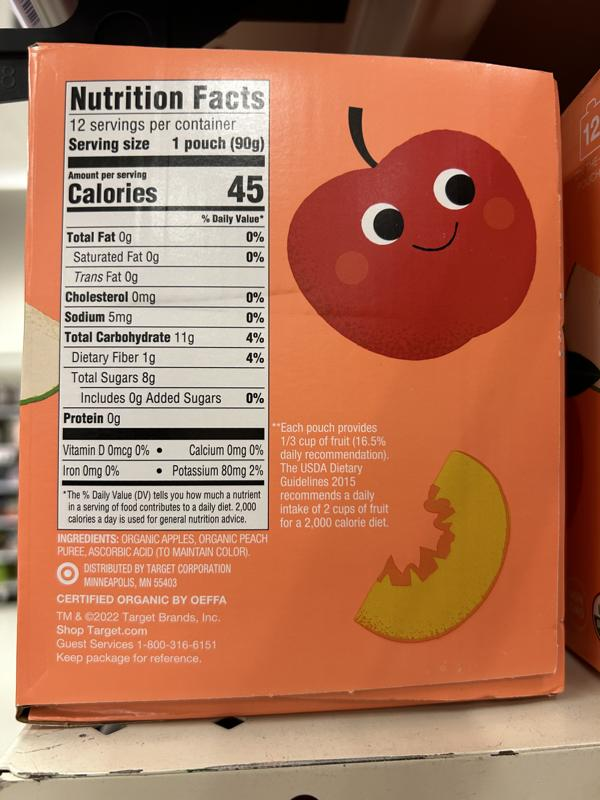ingredients: (54, 532, 269, 560)
